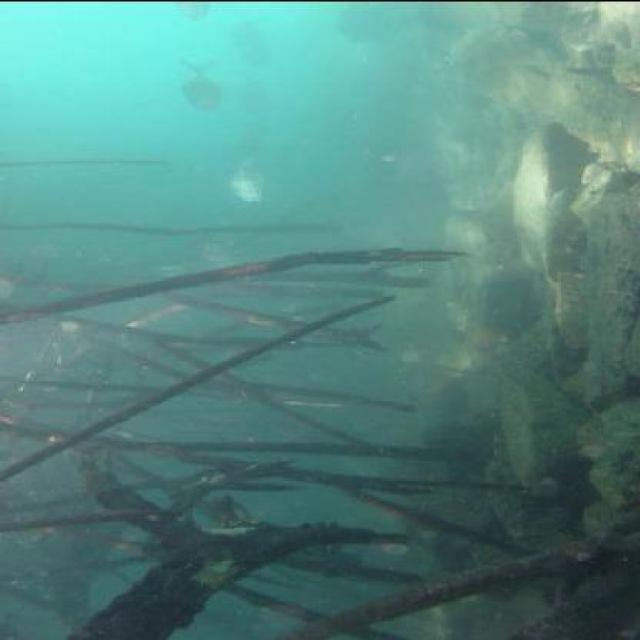Caranx_sexfasciatus_juvenile: (174, 51, 231, 109), (222, 160, 276, 203), (232, 22, 283, 62)
